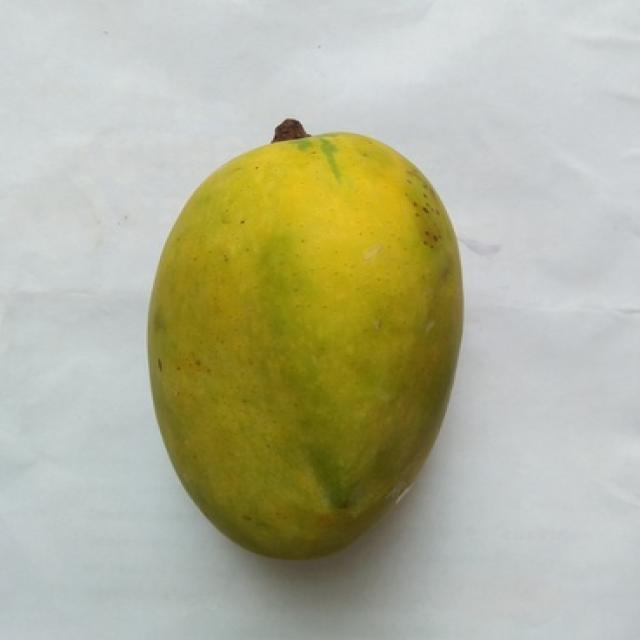Mango: (148, 133, 461, 557)
